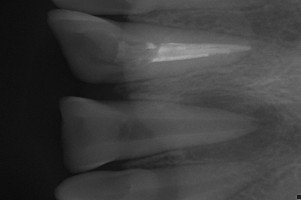Furcation Involvement: (174, 87, 284, 161)
